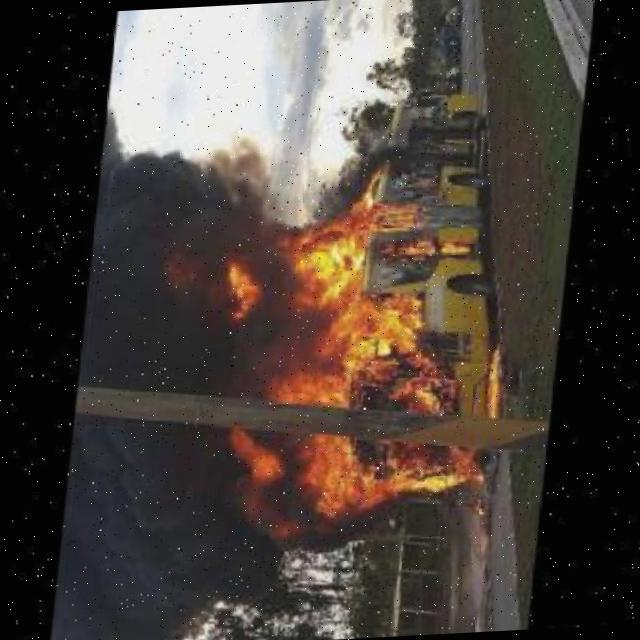fire: (161, 124, 545, 573)
